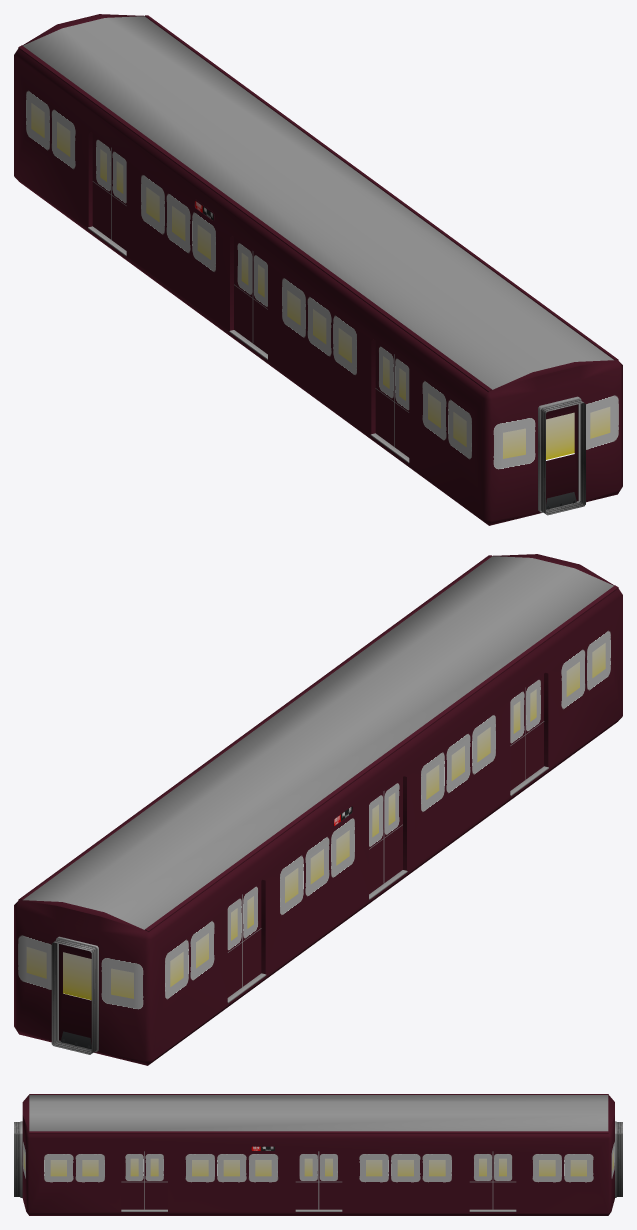
The picture shows the model from 3 angles, top to bottom: view 1: azimuth 30°, elevation 25°; view 2: azimuth 150°, elevation 25°; view 3: azimuth 270°, elevation 25°; orthographic projection. The views are drawn at different scales.
Visible parts, largest first — view 1: IN; view 2: IN; view 3: IN.
Part boxes in pixels (box(x1,y1,x2,y2)): IN: box(14, 14, 622, 525); IN: box(14, 554, 622, 1065); IN: box(14, 1094, 622, 1215).
Size of the model in its own units: 6.59 by 6.42 by 40.2.
8 materials, 7 textured.
